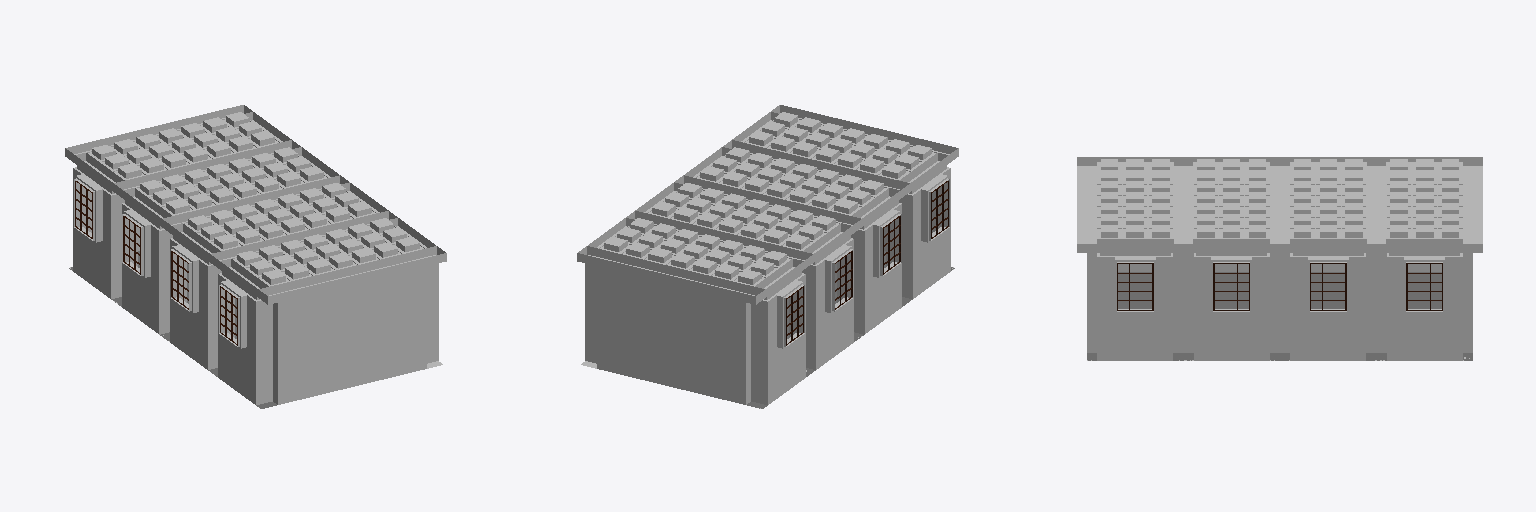
Rendered from room_export.obj.
3 renders of one model, left to right at view 1: azimuth 30°, elevation 25°; view 2: azimuth 150°, elevation 25°; view 3: azimuth 270°, elevation 25°, orthographic.
Parts seen in each view (by area): view 1: Wall_Cube, Window_Cube.002; view 2: Wall_Cube, Window_Cube.002; view 3: Wall_Cube, Plane, Window_Cube.002.
Part boxes in pixels (x1,y1,x2,y2): Wall_Cube: (65,105,446,404); Window_Cube.002: (75,181,237,345); Wall_Cube: (577,105,958,408); Window_Cube.002: (786,181,948,345); Wall_Cube: (1077,157,1482,360); Plane: (1087,272,1472,360); Window_Cube.002: (1117,263,1442,310).
Size of the model in its own units: 17.97 by 10.35 by 31.5.